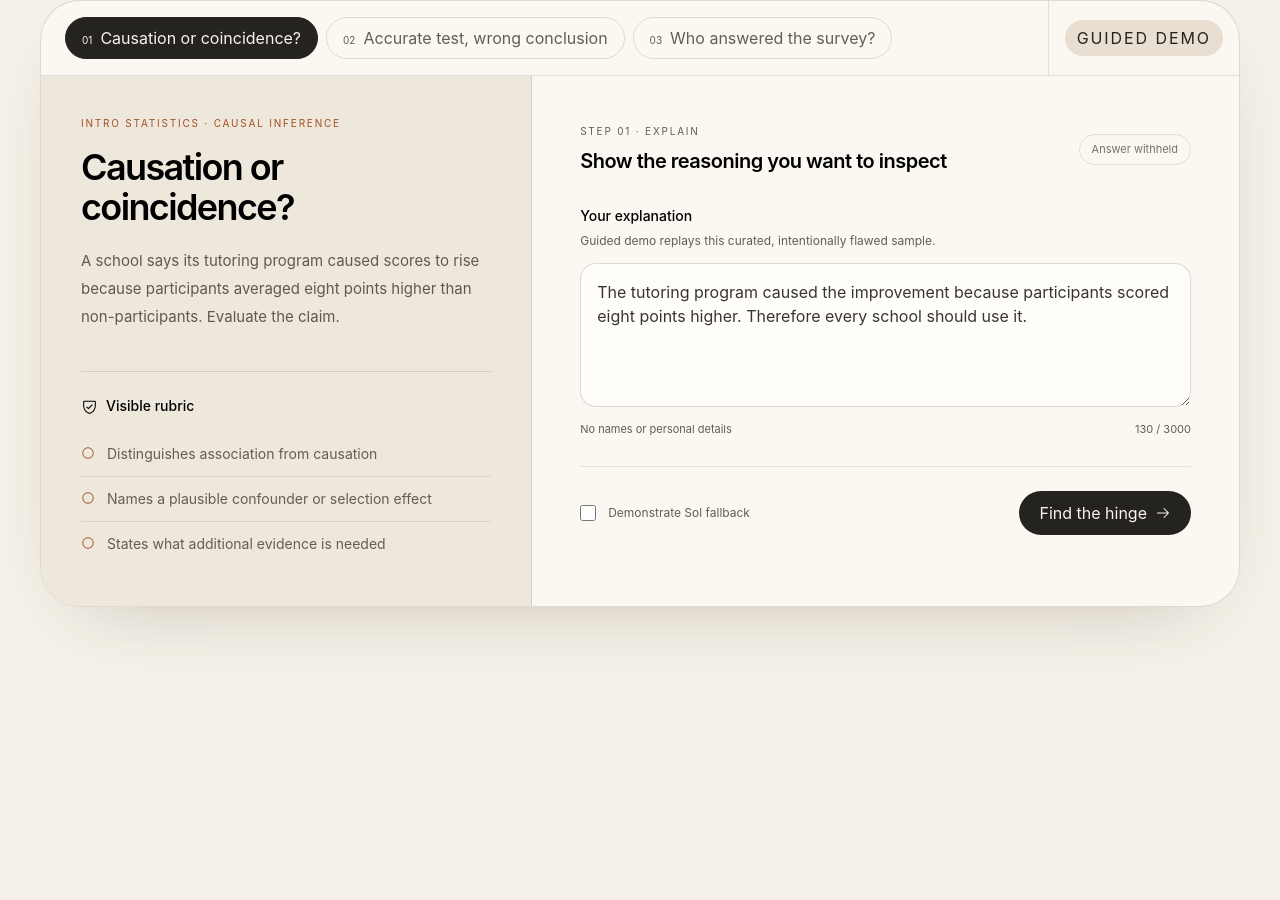
RepairStudio › shows a plain-language recovery state when analysis fails
The width and height of the screenshot is (1280, 900).
Click the button "Find the hinge": (1105, 512) [1020,490,1191,534]
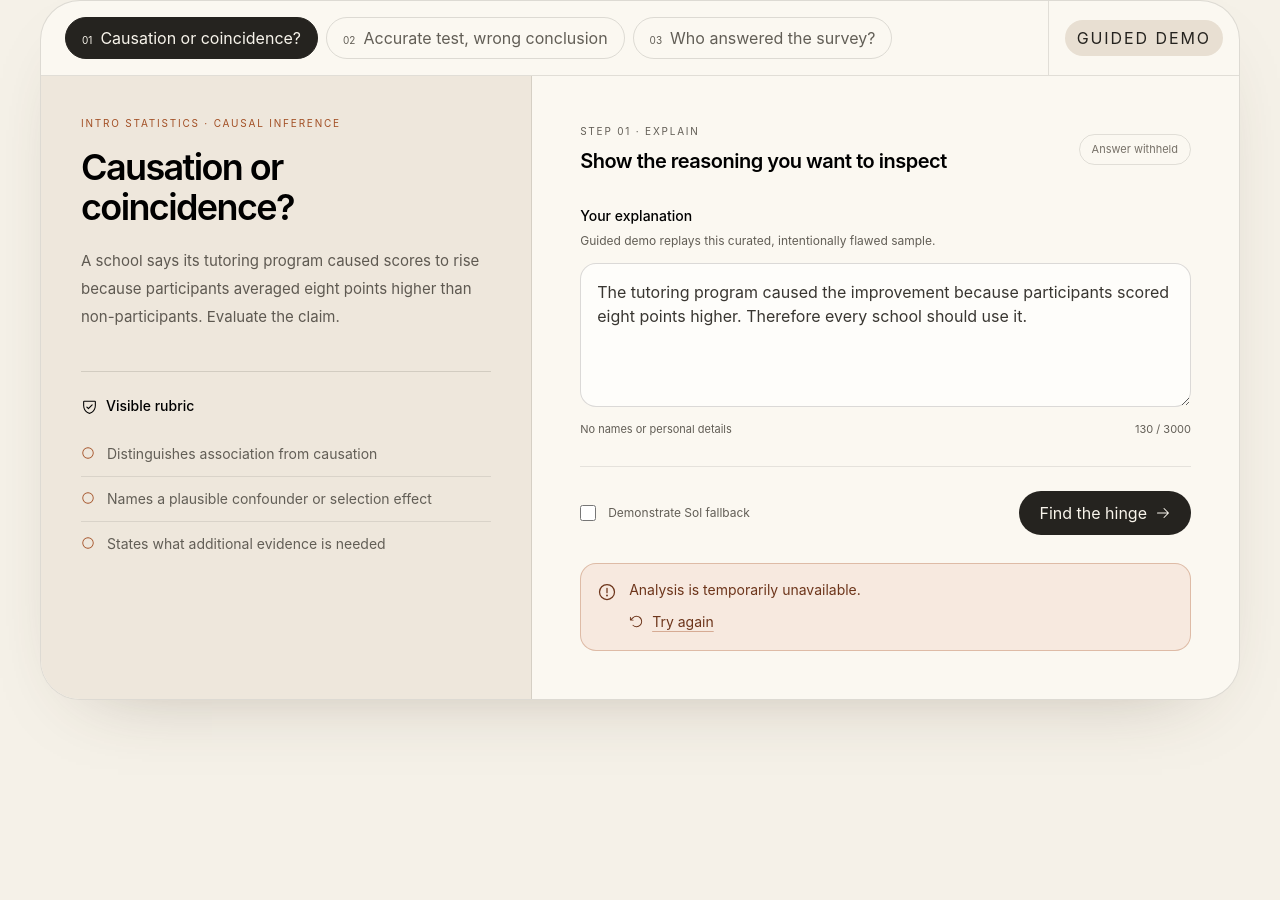
Result: the message shows "Analysis is temporarily unavailable." at [629,580,861,598]
Result: the button "Try again" is shown at [629,612,714,632]
